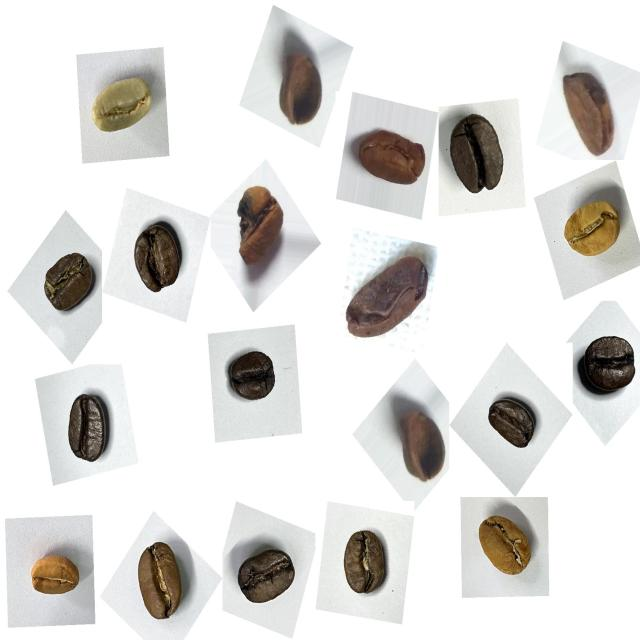bad: (341, 238, 437, 350), (550, 62, 626, 168), (226, 174, 296, 281), (349, 113, 432, 201), (268, 35, 330, 136), (388, 399, 453, 491)
dark: (437, 101, 516, 205), (51, 378, 122, 474), (122, 212, 191, 307), (34, 240, 102, 326), (576, 322, 640, 408), (223, 337, 287, 412), (479, 386, 542, 461)
green: (84, 59, 160, 148)
light: (550, 181, 628, 272), (468, 505, 541, 587), (23, 538, 90, 611)
medium: (121, 530, 197, 632), (227, 531, 306, 618), (329, 520, 402, 608)
